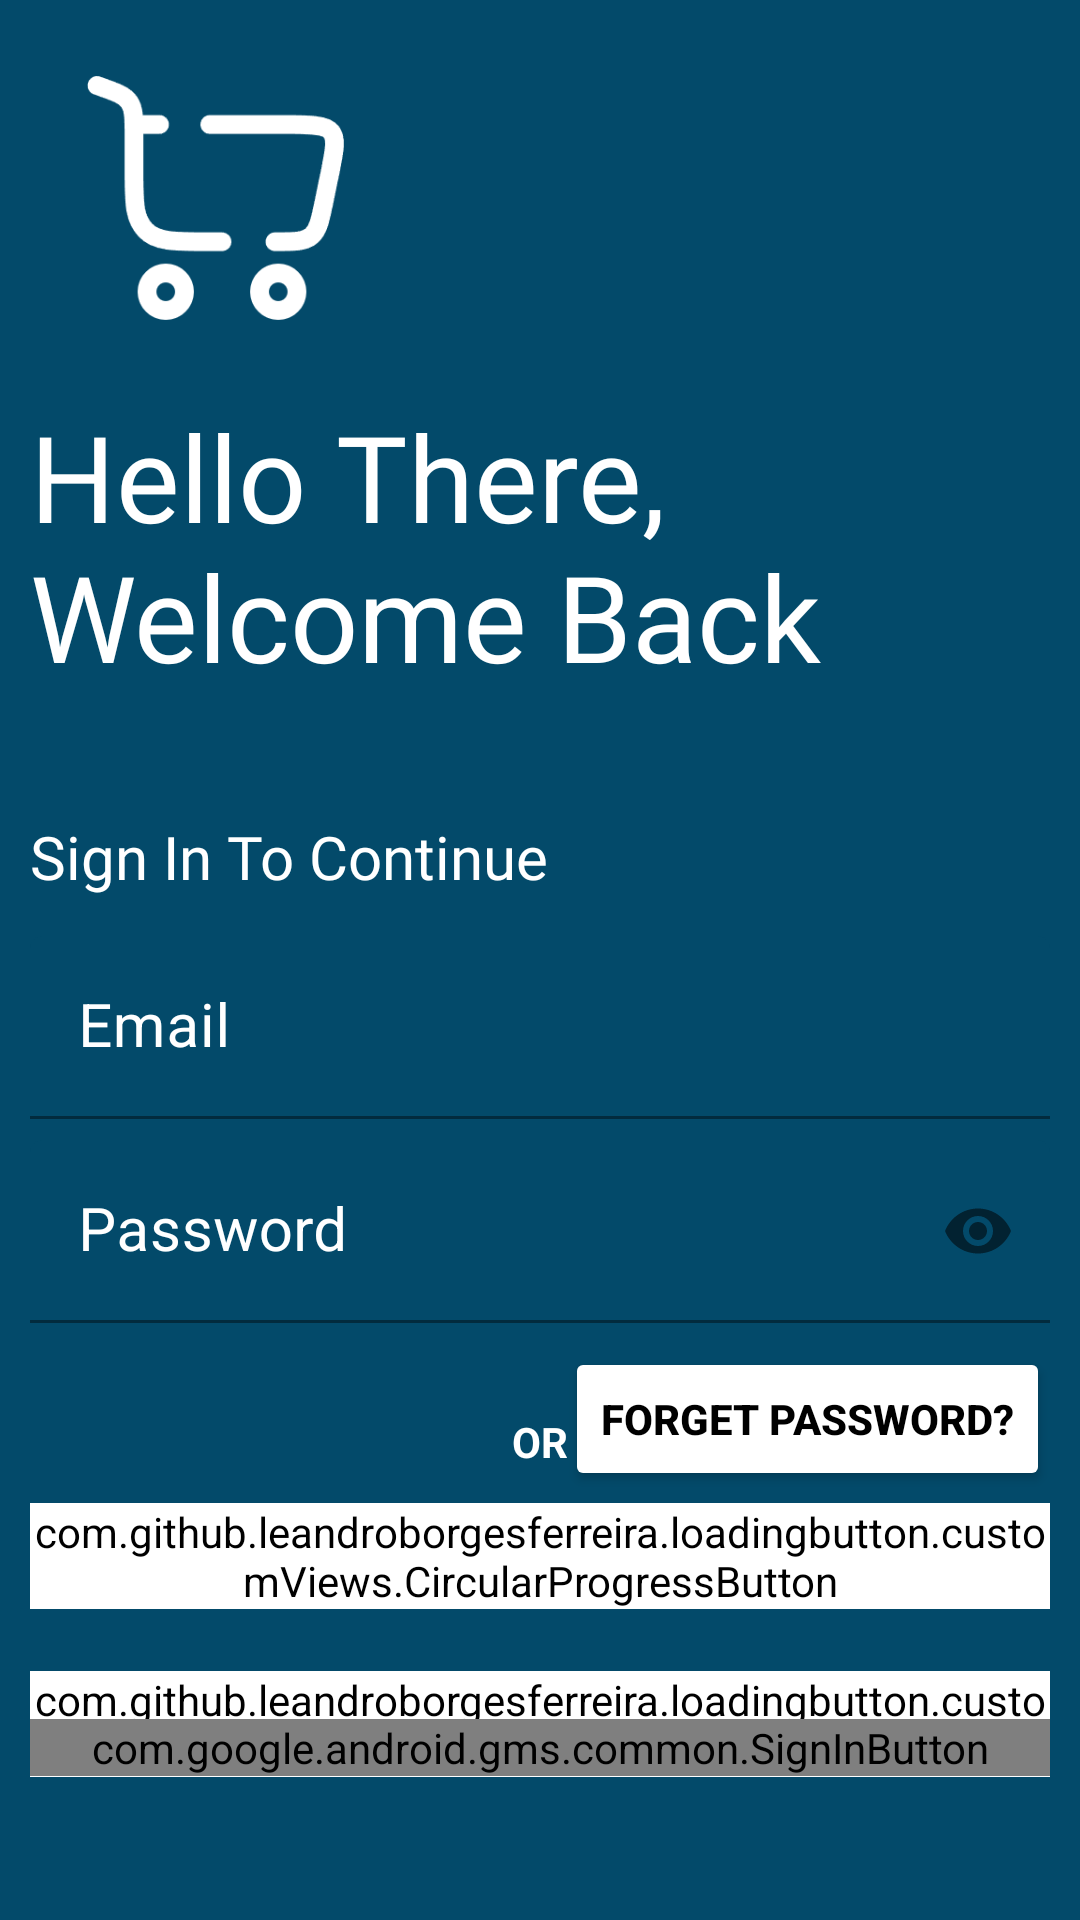

Icon bounding boxes for this 1080x1920 phone screenshot, format [x1,y1,x2,y2]:
cart minimalistic: [87,76,344,320]
